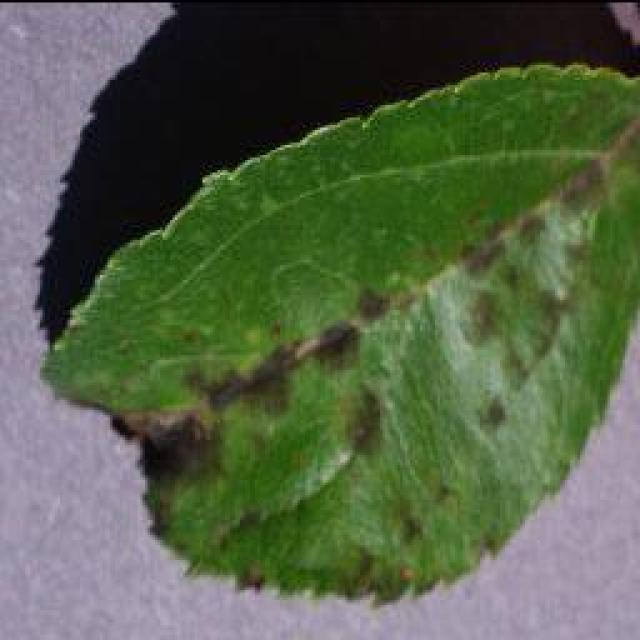apple scab disease: (38, 52, 638, 608)
